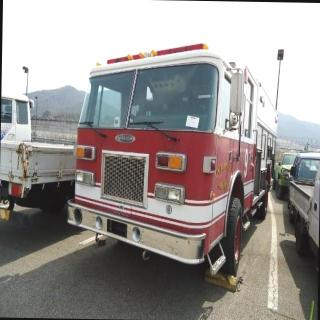Fire_truck: (64, 39, 280, 291), (0, 88, 78, 222)
